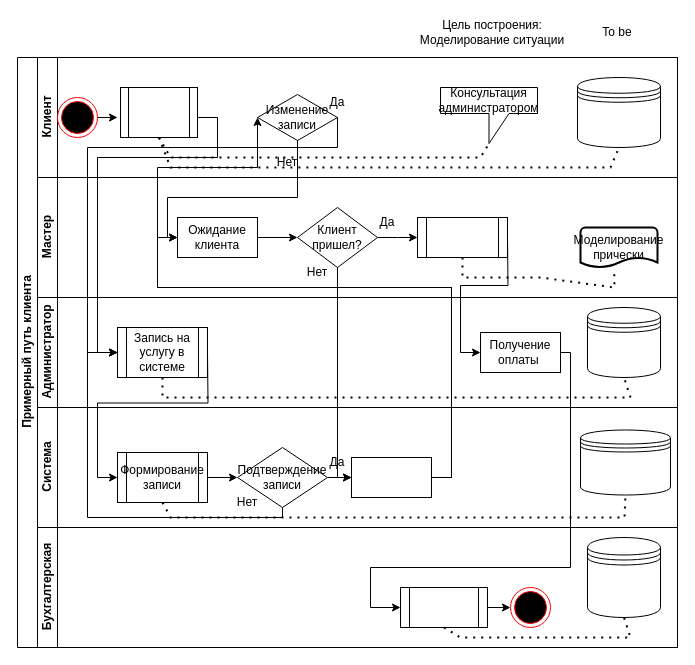
Image size: 695x665. Some labels were removed from this diagram. Here are the shapes that lost their labels. From the top down, the centre of each, then its label:
At point 159,112: "Запись на услугу".
At point 618,112: "Внесение информации в БД".
At point 462,237: "Исполнение услуги".
At point 623,342: "Отображение информации в БД".
At point 391,477: "Отправка уведомлений".
At point 625,462: "Отображение информации в расписание".
At point 623,577: "Получение информации и отправка отчетов".
At point 444,607: "Формирование отчетов".
